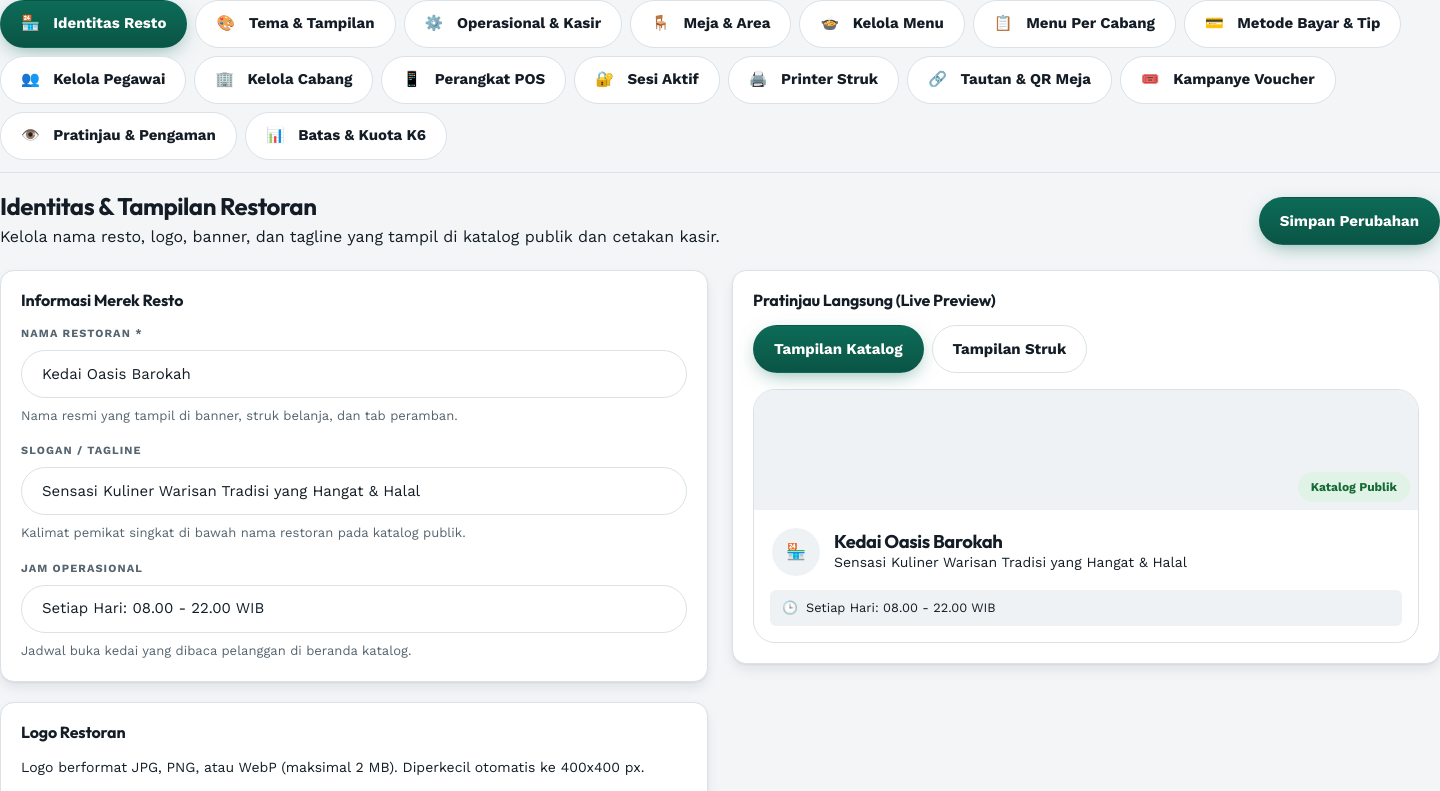
it: LayarPengaturan (Induk Pengaturan Restoran — PRD M2 / Fase 9) › dapat berpindah ke tab Operasional & Kasir
This screenshot has width=1440, height=791.
Click the button with aria-label "buka tab pengaturan operasional" at (513, 24), box [404, 0, 622, 48]
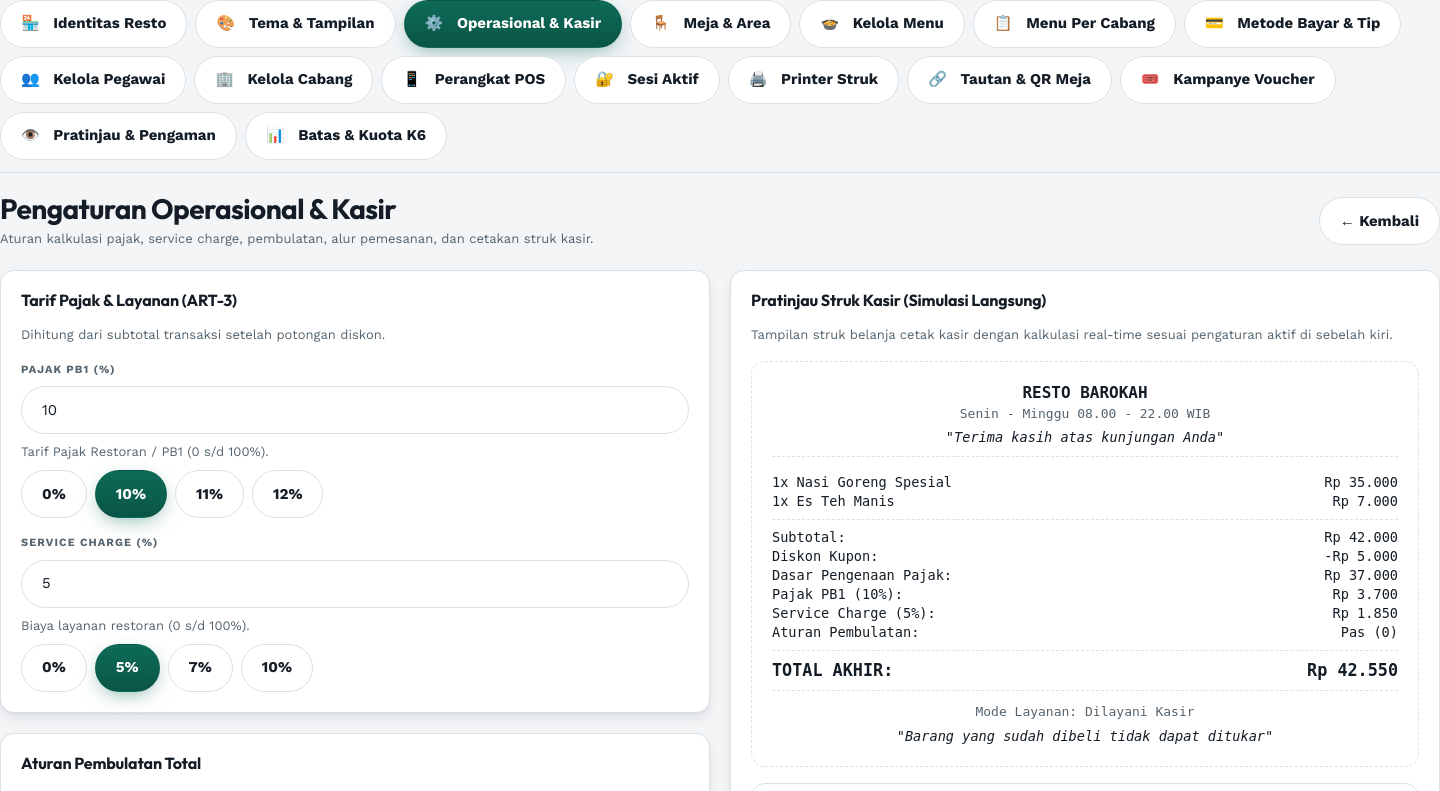
Expected: the heading "Pengaturan Operasional & Kasir" is shown, [0, 191, 396, 226]
